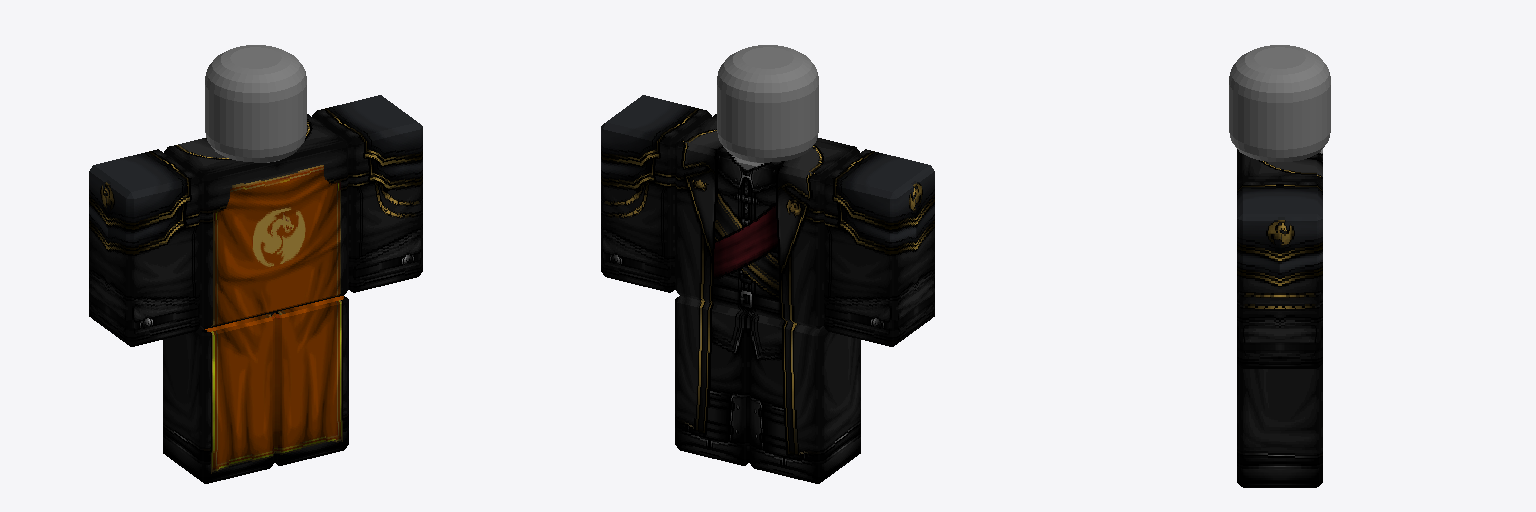
3 renders of one model, left to right at view 1: azimuth 30°, elevation 25°; view 2: azimuth 150°, elevation 25°; view 3: azimuth 270°, elevation 25°, orthographic.
Parts seen in each view (by area): view 1: Community5, Community4, Community2, Community3, Community1, Community6; view 2: Community5, Community4, Community2, Community3, Community1, Community6; view 3: Community3, Community6, Community1, Community5.
Part boxes in pixels (x1,y1,x2,y2): Community5: (164,114,348,328); Community4: (89,149,199,346); Community2: (163,314,274,483); Community3: (312,95,422,292); Community1: (270,296,348,465); Community6: (205,45,306,162); Community5: (675,114,859,328); Community4: (824,149,934,346); Community2: (749,314,860,483); Community3: (601,95,711,292); Community1: (675,296,753,465); Community6: (717,45,818,162); Community3: (1237,182,1322,368); Community6: (1229,45,1330,161); Community1: (1237,364,1322,487); Community5: (1237,149,1322,186).
Bounding box in the file's own units: 4 × 5.1 × 1.2.
Materials: 1 (1 with a texture image).